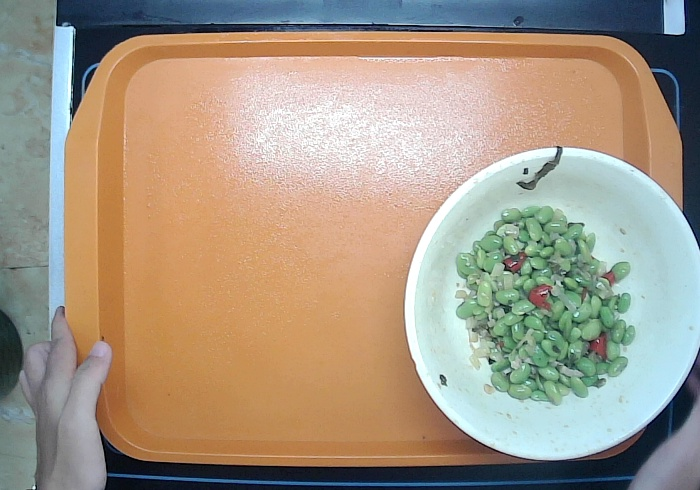ZNLD-Da_Tang_Wan: (402, 143, 700, 466)
